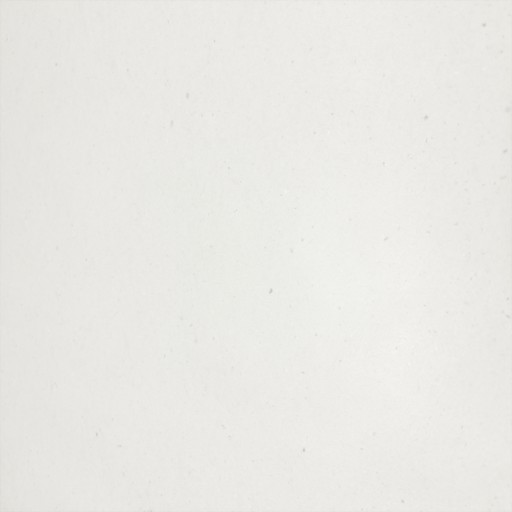lego: (203, 232, 307, 282)
